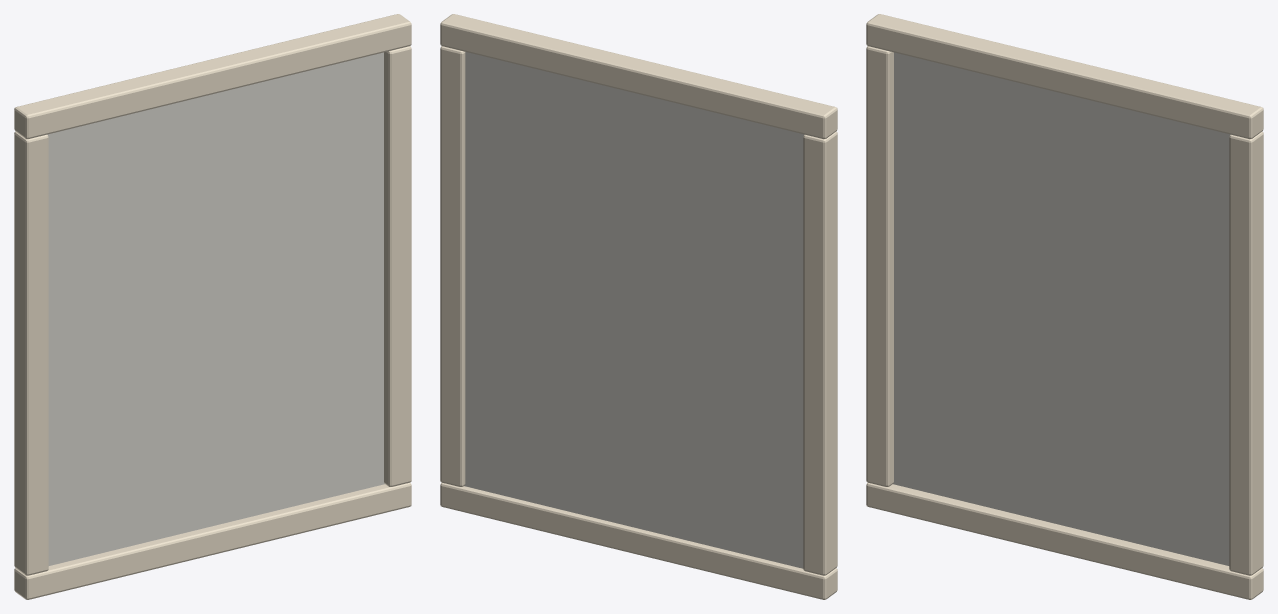
File: sg_art_small.glb
3 renders of one model, left to right at view 1: azimuth 30°, elevation 25°; view 2: azimuth 150°, elevation 25°; view 3: azimuth 330°, elevation 25°, orthographic.
Visible parts, largest first — view 1: canvas, frame; view 2: canvas, frame; view 3: canvas, frame.
Boxes of the visible parts, <box> form: canvas: <box>47,52,384,565</box>; frame: <box>14,14,411,599</box>; canvas: <box>464,52,804,568</box>; frame: <box>440,14,837,599</box>; canvas: <box>893,52,1230,565</box>; frame: <box>866,14,1263,599</box>.
Size of the model in its own units: 0.5 by 0.6 by 0.03.
